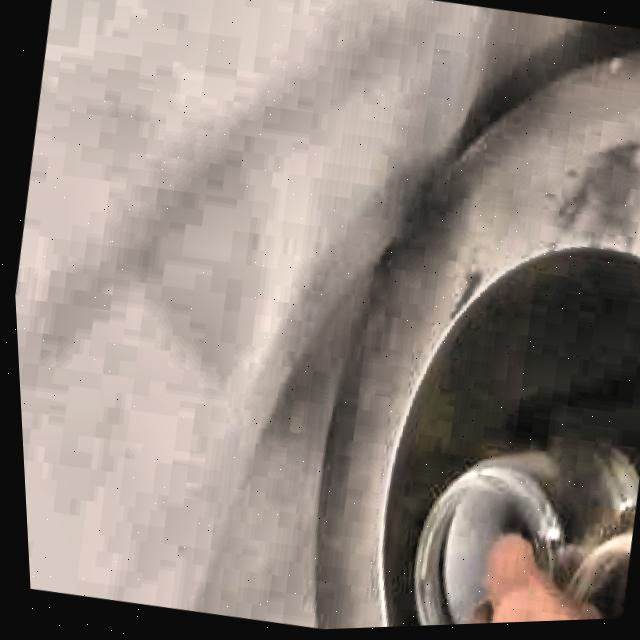glass: (408, 454, 633, 629)
